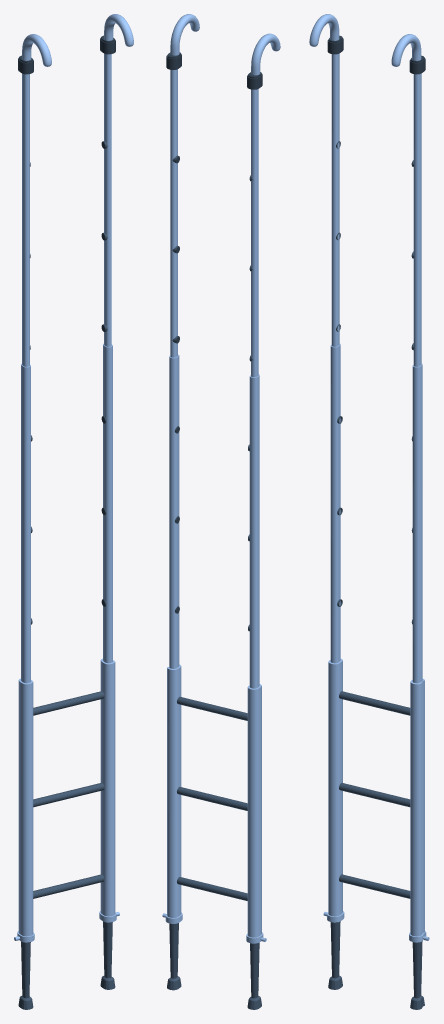
File: Ladder_NoUpgrade_01_Mesh.fbx
3 renders of one model, left to right at view 1: azimuth 30°, elevation 25°; view 2: azimuth 150°, elevation 25°; view 3: azimuth 330°, elevation 25°, orthographic.
Visible parts, largest first — view 1: Steps Right 4.001, Steps Right 4.002; view 2: Steps Right 4.001, Steps Right 4.002; view 3: Steps Right 4.001, Steps Right 4.002.
Part boxes in pixels (x1=…): Steps Right 4.001: x1=14, y1=53, x2=119, y2=1009; Steps Right 4.002: x1=18, y1=14, x2=133, y2=74; Steps Right 4.001: x1=162, y1=69, x2=266, y2=1009; Steps Right 4.002: x1=166, y1=14, x2=280, y2=89; Steps Right 4.001: x1=323, y1=53, x2=429, y2=1009; Steps Right 4.002: x1=309, y1=14, x2=425, y2=74.
Size of the model in its own units: 43.06 by 388 by 20.44.
